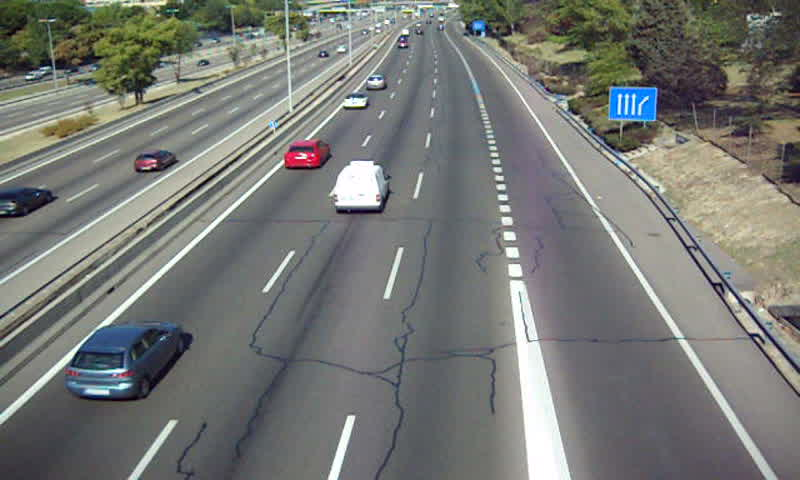car: (65, 323, 184, 400), (284, 141, 329, 169), (342, 94, 371, 109), (364, 73, 386, 90)
van: (333, 160, 392, 212)
